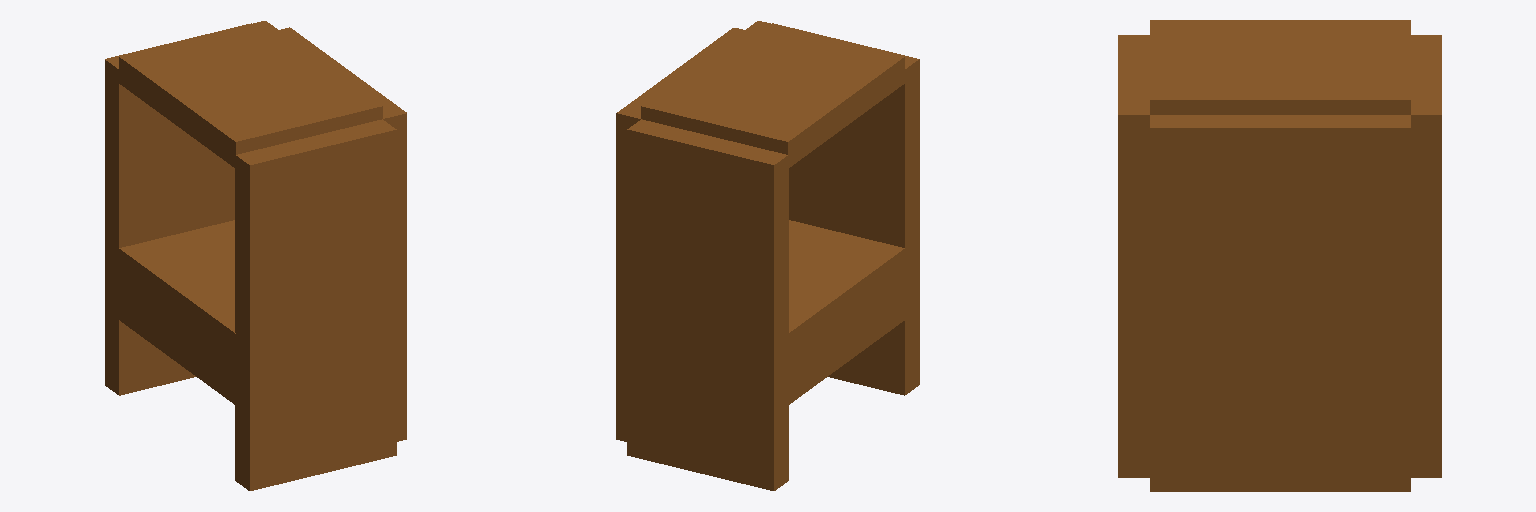
URDF robot description (dummy):
<?xml version="1.0"?>
<robot name="dummy">
  <link name="bottom_wall">
    <visual>
      <origin xyz="0.0 0.0 0.13003931728783666" rpy="0 0 0"/>
      <geometry>
        <mesh filename="bottom_wall.obj" scale="1 1 1"/>
      </geometry>
      <material name="brown">
        <color rgba="0.6 0.4 0.2 1.0"/>
      </material>
    </visual>
    <collision>
      <origin xyz="0.0 0.0 0.13003931728783666" rpy="0 0 0"/>
      <geometry>
        <mesh filename="bottom_wall.obj" scale="1 1 1"/>
      </geometry>
    </collision>
  </link>

  <link name="left_wall">
    <visual>
      <origin xyz="0.0 -0.2026986311781539 0.0" rpy="0 0 0"/>
      <geometry>
        <mesh filename="vertical_wall.obj" scale="1 1 1"/>
      </geometry>
      <material name="brown">
        <color rgba="0.6 0.4 0.2 1.0"/>
      </material>
    </visual>
    <collision>
      <origin xyz="0.0 -0.2026986311781539 0.0" rpy="0 0 0"/>
      <geometry>
        <mesh filename="vertical_wall.obj" scale="1 1 1"/>
      </geometry>
    </collision>
  </link>

  <link name="right_wall">
    <visual>
      <origin xyz="0.0 0.2026986311781539 0.0" rpy="0 0 0"/>
      <geometry>
        <mesh filename="vertical_wall.obj" scale="1 1 1"/>
      </geometry>
      <material name="brown">
        <color rgba="0.6 0.4 0.2 1.0"/>
      </material>
    </visual>
    <collision>
      <origin xyz="0.0 0.2026986311781539 0.0" rpy="0 0 0"/>
      <geometry>
        <mesh filename="vertical_wall.obj" scale="1 1 1"/>
      </geometry>
    </collision>
  </link>

  <link name="back_wall">
    <visual>
      <origin xyz="0.15246347965358942 0.0 0.0" rpy="0 0 0"/>
      <geometry>
        <mesh filename="back_wall.obj" scale="1 1 1"/>
      </geometry>
      <material name="brown">
        <color rgba="0.6 0.4 0.2 1.0"/>
      </material>
    </visual>
    <collision>
      <origin xyz="0.15246347965358942 0.0 0.0" rpy="0 0 0"/>
      <geometry>
        <mesh filename="back_wall.obj" scale="1 1 1"/>
      </geometry>
    </collision>
  </link>

  <link name="top_wall">
    <visual>
      <origin xyz="0.0 0.0 0.534441367185682" rpy="0 0 0"/>
      <geometry>
        <mesh filename="top_wall.obj" scale="1 1 1"/>
      </geometry>
      <material name="brown">
        <color rgba="0.6 0.4 0.2 1.0"/>
      </material>
    </visual>
    <collision>
      <origin xyz="0.0 0.0 0.534441367185682" rpy="0 0 0"/>
      <geometry>
        <mesh filename="top_wall.obj" scale="1 1 1"/>
      </geometry>
    </collision>
  </link>

  <joint name="left_wall_joint" type="fixed">
    <origin xyz="0 0 0" rpy="0 0 0"/>
    <parent link="bottom_wall"/>
    <child link="left_wall"/>
  </joint>

  <joint name="right_wall_joint" type="fixed">
    <origin xyz="0 0 0" rpy="0 0 0"/>
    <parent link="bottom_wall"/>
    <child link="right_wall"/>
  </joint>

  <joint name="back_wall_joint" type="fixed">
    <origin xyz="0 0 0" rpy="0 0 0"/>
    <parent link="bottom_wall"/>
    <child link="back_wall"/>
  </joint>

  <joint name="top_wall_joint" type="fixed">
    <origin xyz="0 0 0" rpy="0 0 0"/>
    <parent link="bottom_wall"/>
    <child link="top_wall"/>
  </joint>

</robot>

--- Facts derived from the render (not from the file) ---
Views: 3 orthographic renders of the robot side by side, from view 1: azimuth 30°, elevation 25°; view 2: azimuth 150°, elevation 25°; view 3: azimuth 270°, elevation 25°.
Model dummy with 5 links and 4 joints (4 fixed), rooted at bottom_wall, posed every joint at zero.
Links seen in each view (by area): view 1: left_wall, top_wall, right_wall, bottom_wall, back_wall; view 2: right_wall, top_wall, left_wall, bottom_wall, back_wall; view 3: back_wall, top_wall, left_wall, right_wall.
Boxes of the visible links, <box> form: left_wall: <box>235,119,396,490</box>; top_wall: <box>119,21,382,167</box>; right_wall: <box>105,23,251,395</box>; bottom_wall: <box>118,220,235,404</box>; back_wall: <box>279,27,406,441</box>; right_wall: <box>627,119,788,490</box>; top_wall: <box>641,21,904,167</box>; left_wall: <box>772,23,919,395</box>; bottom_wall: <box>788,220,905,404</box>; back_wall: <box>616,28,744,441</box>; back_wall: <box>1150,115,1410,491</box>; top_wall: <box>1150,20,1410,114</box>; left_wall: <box>1118,35,1149,477</box>; right_wall: <box>1411,35,1441,477</box>.
Size in the robot's own frame: 0.3078 by 0.4505 by 0.5805 metres.
Meshes: 4 distinct files referenced, 5 mesh visuals loaded (4 OBJ).
